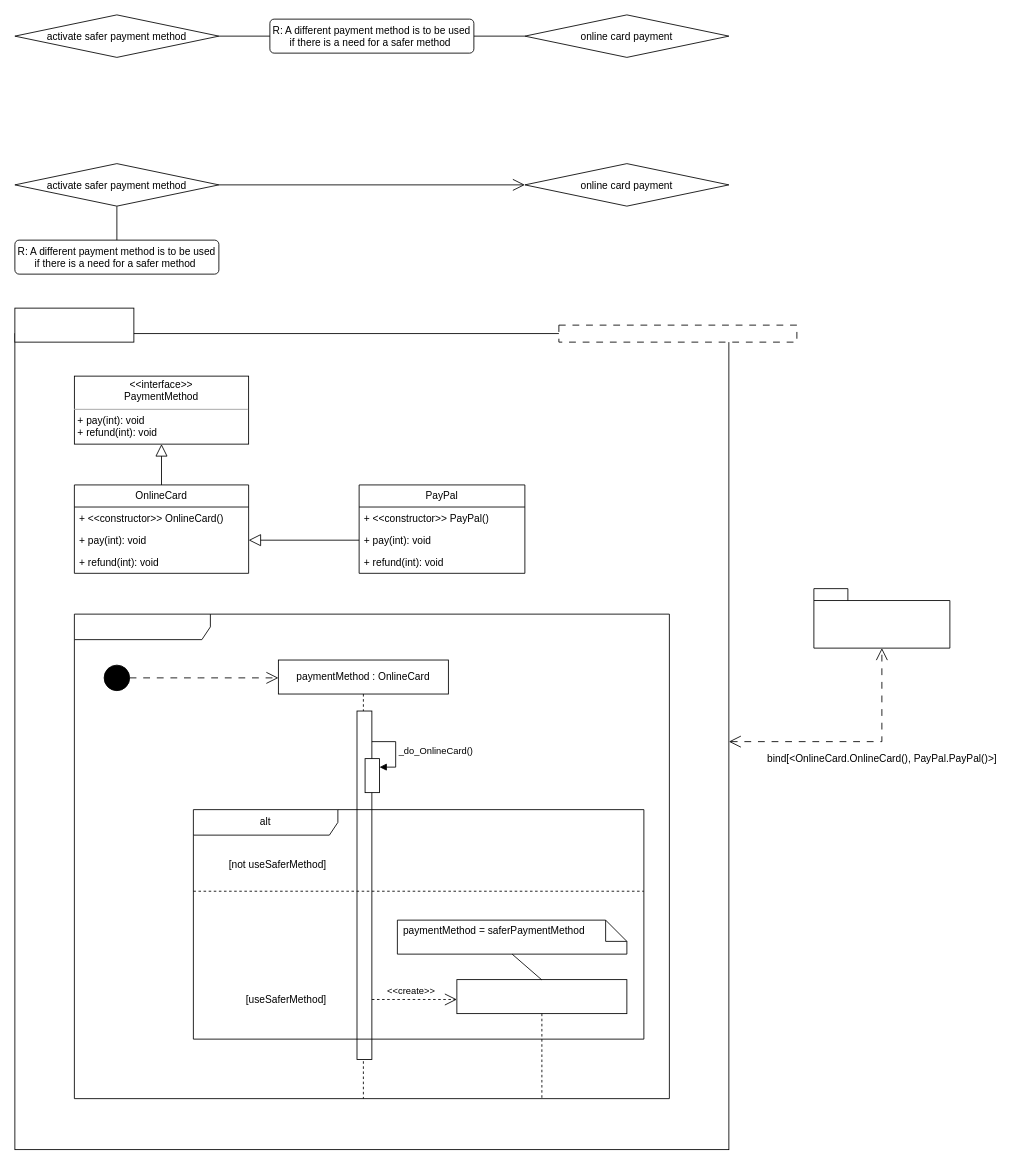
This 1011x1165 diagram has some shape labels left out. The shapes that lost their labels are listed below. From the top down, each one's box as (x1, y1, x2, y2) in pixels, then its label:
(14, 307, 134, 342): <<theme>> ChangePaymentMethod
(558, 324, 797, 342): <OnlineCard.OnlineCard(), PayPal.PayPal()>
(813, 588, 950, 648): <<theme>> OnlineCardPayment
(74, 613, 669, 1099): sd OnlineCard
(456, 979, 627, 1099): saferPaymentMethod : PayPal
